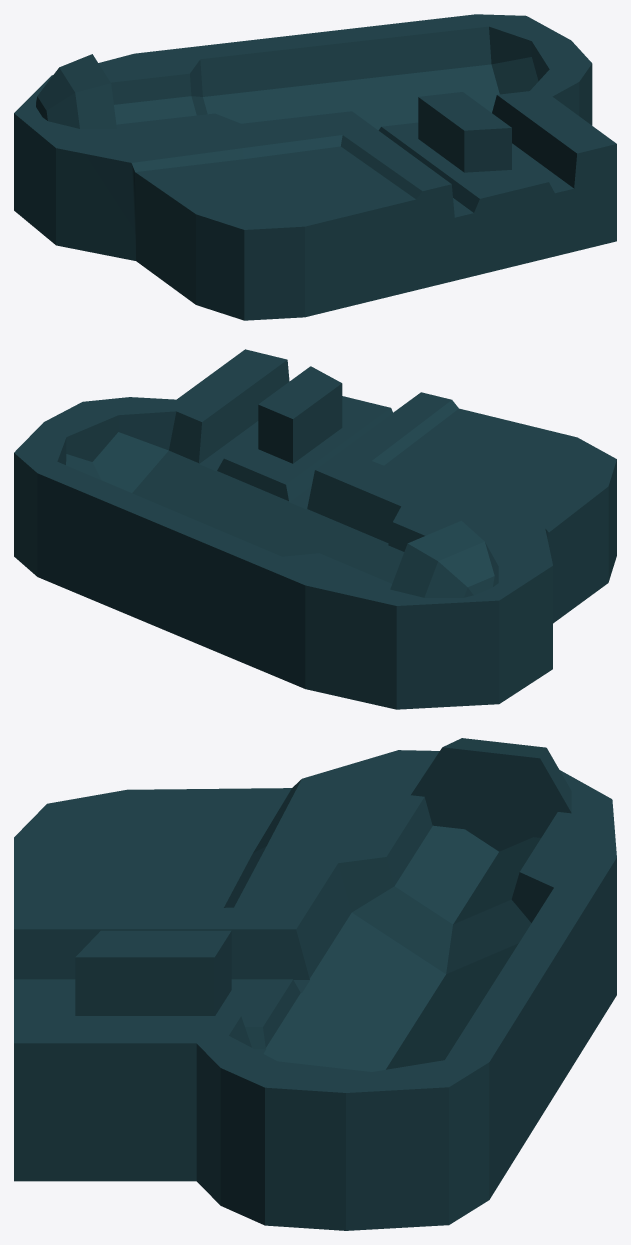
Rendered from bus_breakerHolder_mdl.fbx.
3 renders of one model, top to bottom at view 1: azimuth 30°, elevation 25°; view 2: azimuth 150°, elevation 25°; view 3: azimuth 270°, elevation 25°, orthographic. The views are drawn at different scales.
Parts seen in each view (by area): view 1: breakerHolder_mdl; view 2: breakerHolder_mdl; view 3: breakerHolder_mdl.
Part boxes in pixels (bbox=[...]): breakerHolder_mdl: bbox=[14, 14, 616, 320]; breakerHolder_mdl: bbox=[14, 349, 616, 709]; breakerHolder_mdl: bbox=[14, 738, 616, 1230].
Size of the model in its own units: 16.94 by 4.36 by 12.59.
